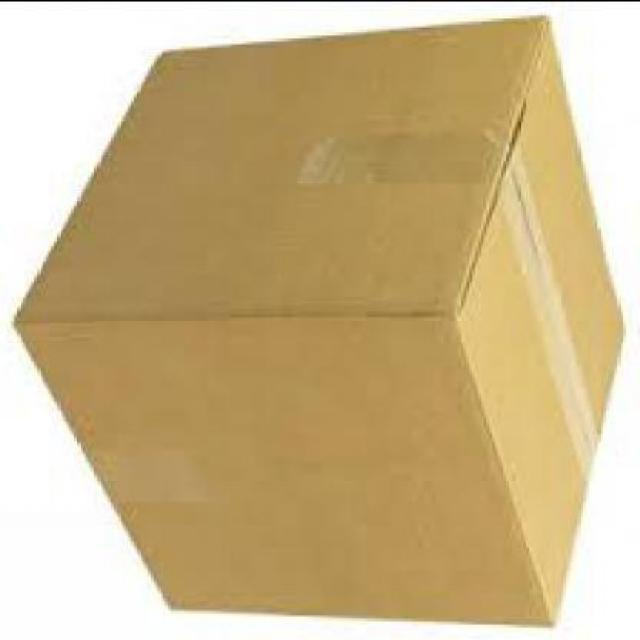box: (20, 11, 629, 623)
